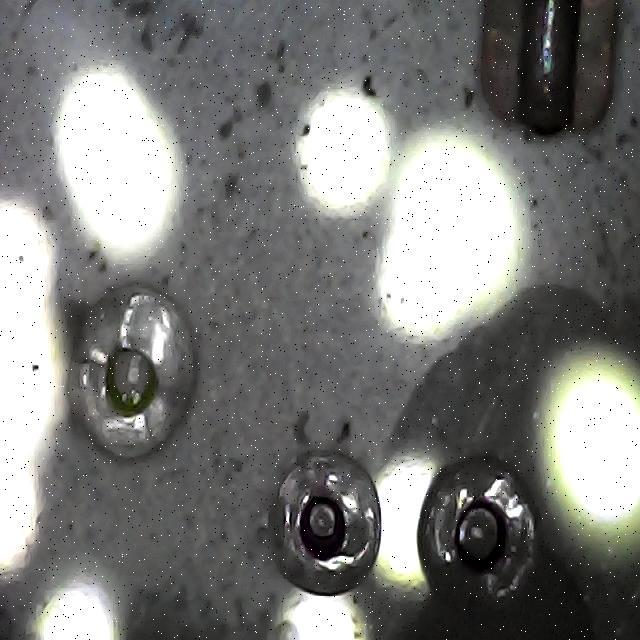beads: (50, 274, 215, 471), (478, 0, 619, 136), (415, 456, 542, 603), (271, 451, 384, 597)
